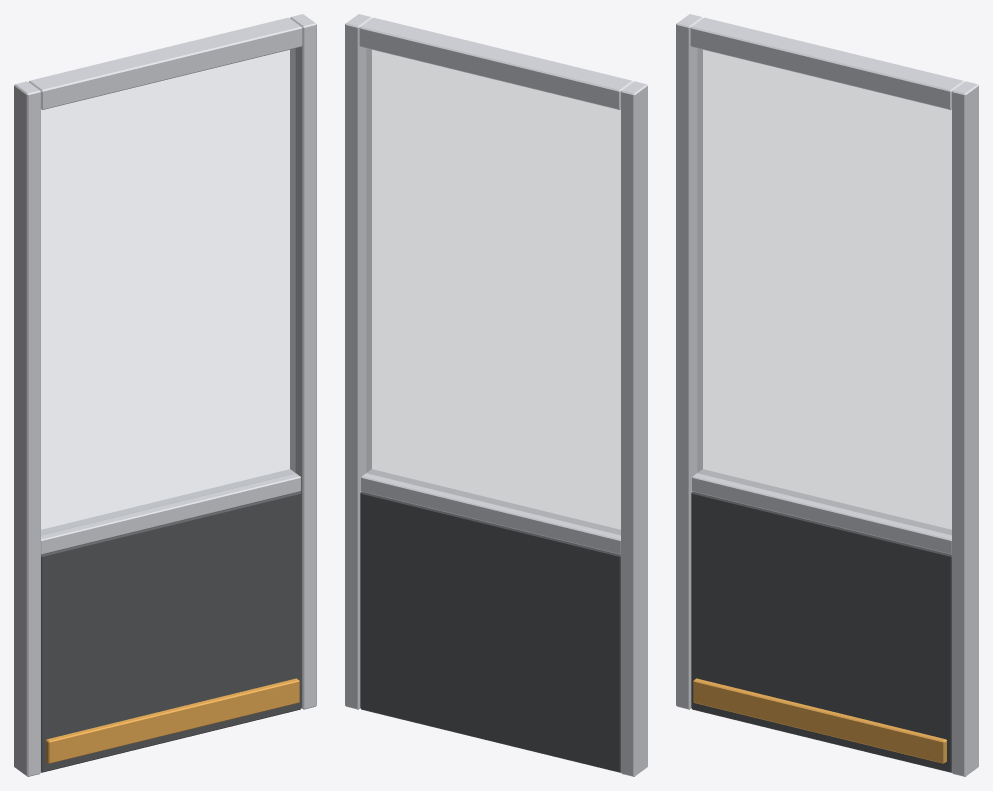
The model's file is 35518_Gallery_Glass_Partition_Module__TV_Studio_and_Broadcast_Gallery_.glb.
3 views of the same model, side by side, from view 1: azimuth 30°, elevation 25°; view 2: azimuth 150°, elevation 25°; view 3: azimuth 330°, elevation 25° (orthographic).
Parts seen in each view (by area): view 1: glass-partition-module; view 2: glass-partition-module; view 3: glass-partition-module.
Boxes of the visible parts, left/top/right/bottom form: glass-partition-module: left=14, top=14, right=316, bottom=776; glass-partition-module: left=345, top=14, right=647, bottom=776; glass-partition-module: left=676, top=14, right=978, bottom=776.
Bounding box in the file's own units: 1.2 × 2.7 × 0.1149.
